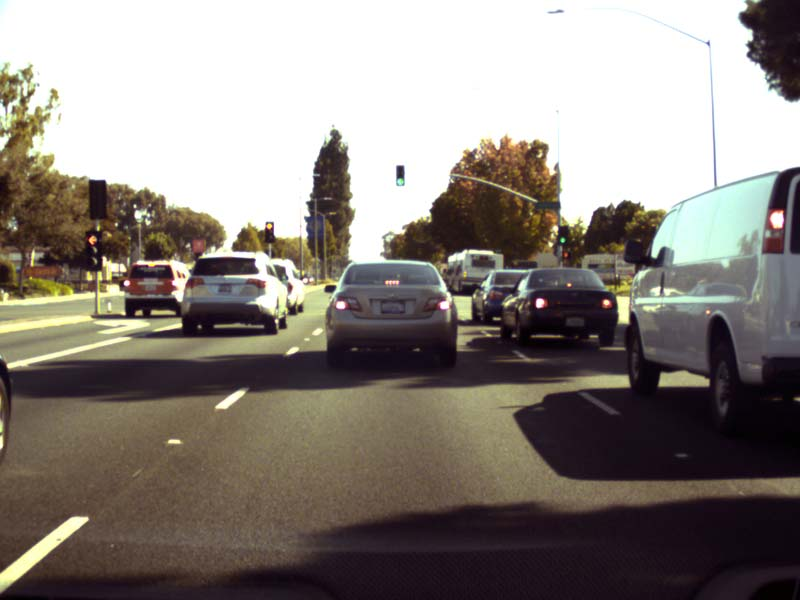Green: (558, 227, 566, 244), (397, 166, 403, 185)
Red: (84, 230, 101, 268), (265, 222, 272, 241), (563, 252, 568, 258)
